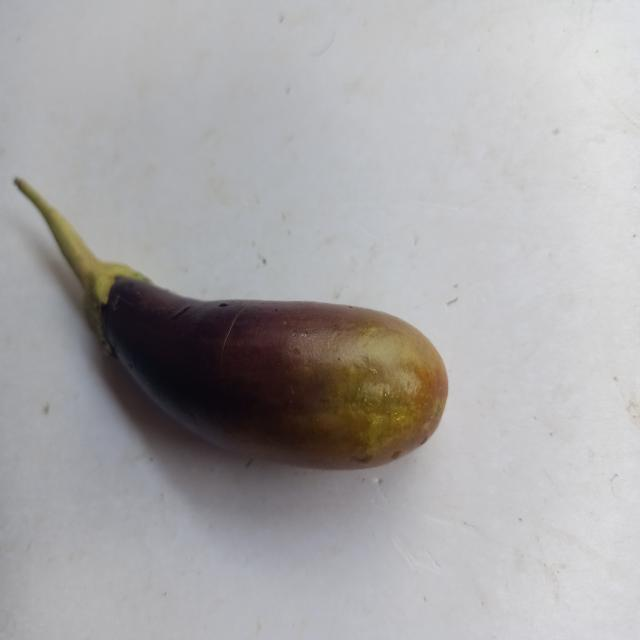Brinjal: (5, 144, 493, 541)
